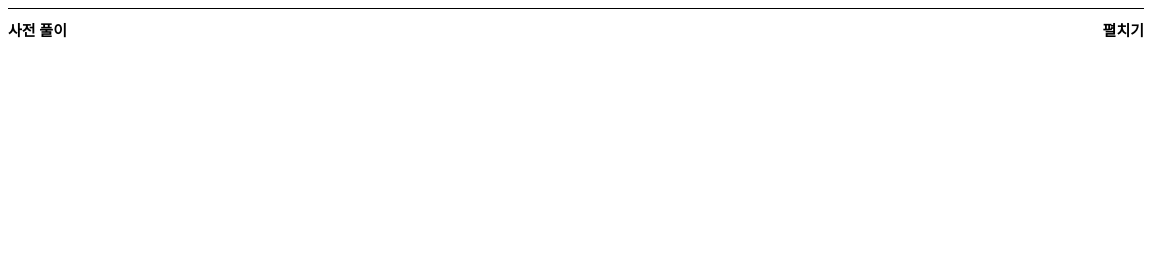
Test: DictTabs › opens on the basic dictionary tab with the part of speech beside the headword
Click the button "사전 풀이 펼치기" at (37, 31), box [8,9,1144,53]
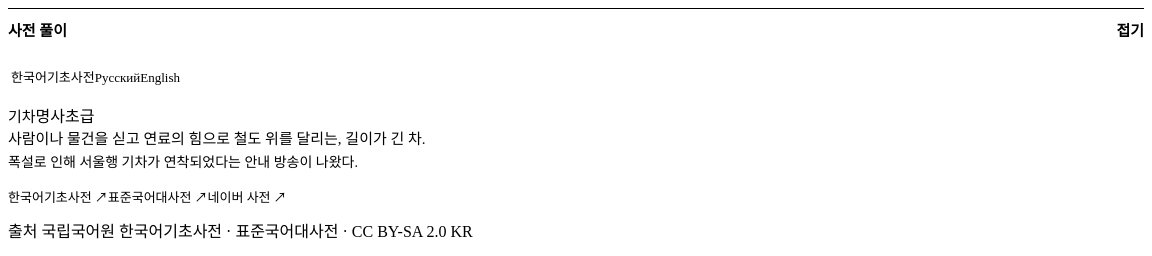
expect the button "사전 풀이 접기" is expanded: met, box [8,9,1144,53]
expect the tabs read "한국어기초사전", "Русский", "English", in this order: met, box [11,56,95,100]; [95,56,140,100]; [140,56,180,100]
expect the text "명사" reads "기차 명사 초급": met, box [8,108,94,125]
